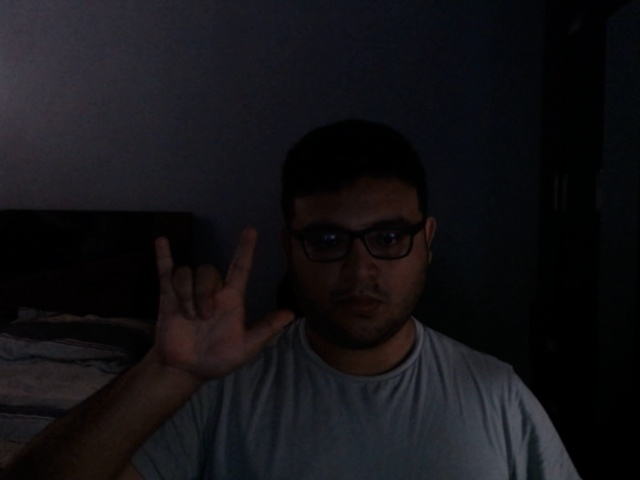I love you: (145, 219, 298, 386)
